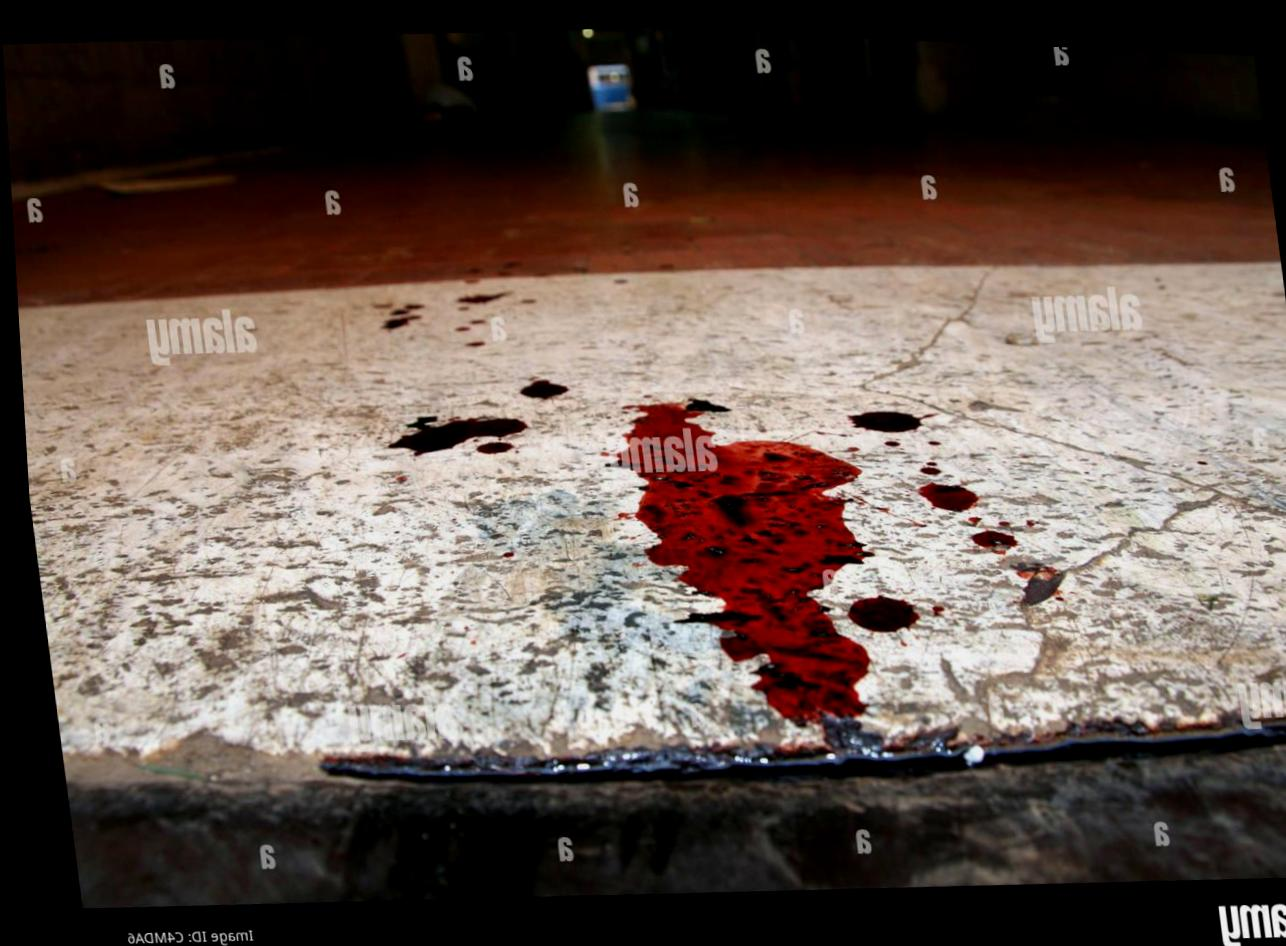Fire: (593, 391, 875, 744), (383, 410, 524, 451), (841, 586, 914, 624), (912, 472, 974, 502), (842, 402, 920, 424), (515, 374, 564, 393), (965, 520, 1013, 539), (470, 436, 510, 449)
